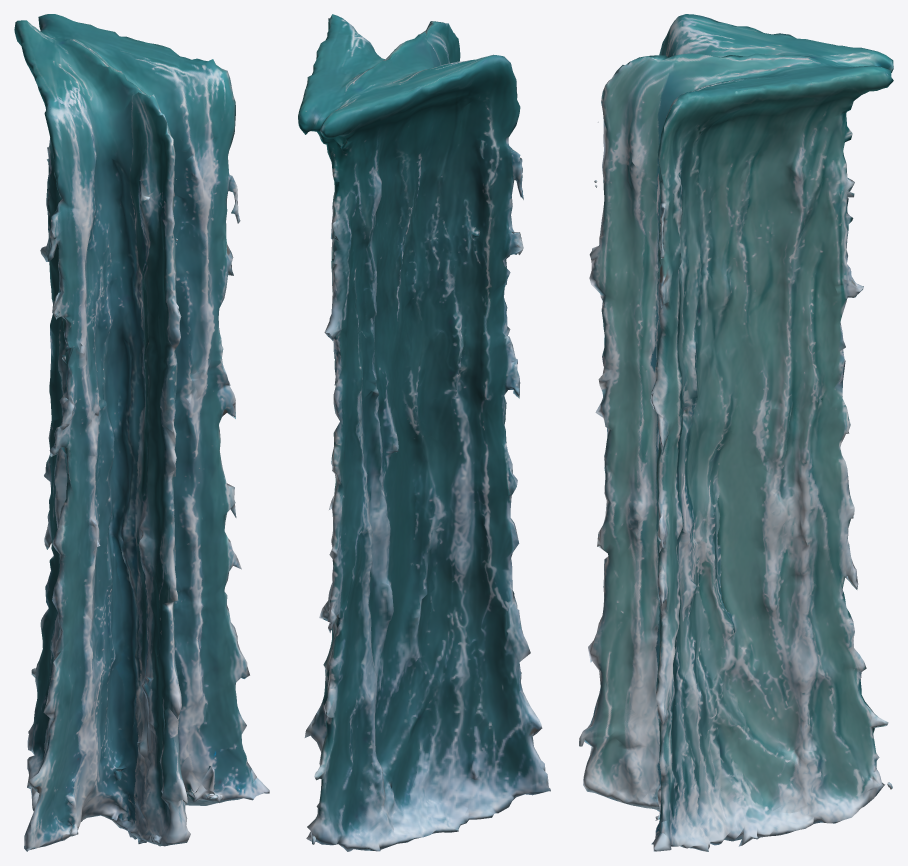
The model's file is WaterfallWater.fbx.
3 renders of one model, left to right at view 1: azimuth 30°, elevation 25°; view 2: azimuth 150°, elevation 25°; view 3: azimuth 270°, elevation 25°, orthographic.
Parts seen in each view (by area): view 1: texture_mapping; view 2: texture_mapping; view 3: texture_mapping.
Part boxes in pixels (box(x1,y1,x2,y2)): texture_mapping: box(14, 14, 269, 851); texture_mapping: box(298, 14, 550, 851); texture_mapping: box(579, 14, 893, 851).
Size of the model in its own units: 0.3317 by 0.3696 by 0.9925.
Materials: 1 (1 with a texture image).
